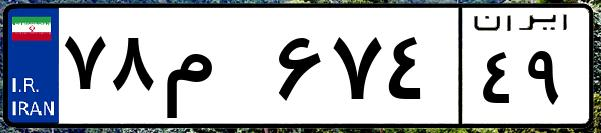4: (385, 28, 445, 110), (475, 38, 525, 113)
6: (270, 28, 330, 110)
7: (330, 28, 385, 110), (57, 26, 110, 100)
8: (110, 28, 158, 98)
9: (525, 38, 570, 115)
م: (158, 20, 270, 120)
